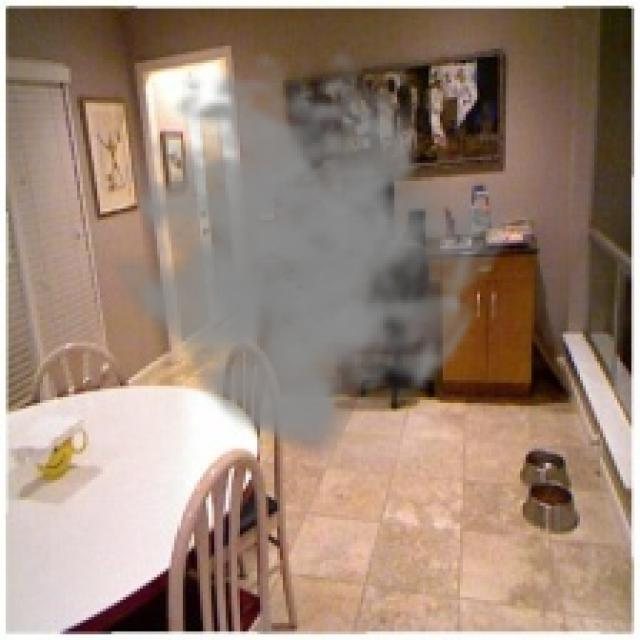smoke: (97, 49, 517, 457)
